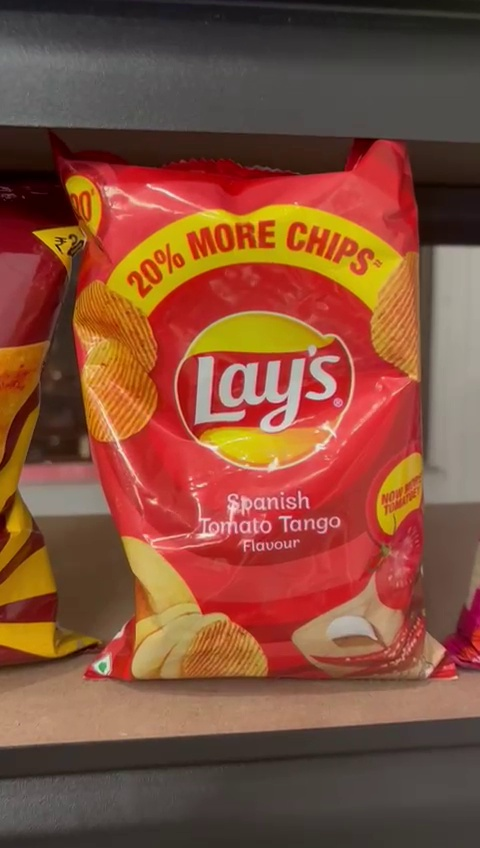Lays: (61, 167, 416, 675)
